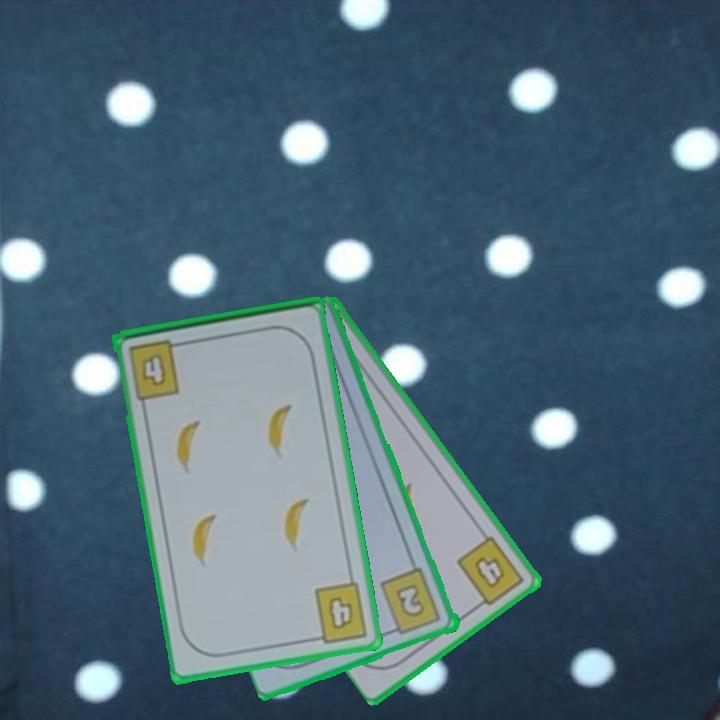2b: (377, 565, 445, 638)
4b: (453, 531, 528, 612), (307, 578, 371, 646), (125, 335, 188, 403)
